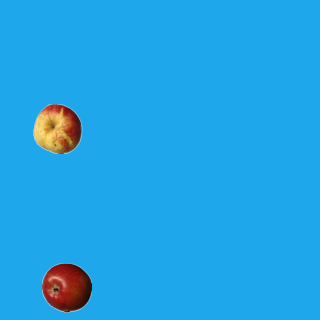Apple Braeburn: (41, 262, 91, 312)
Apple Red Yellow 1: (32, 103, 82, 153)
